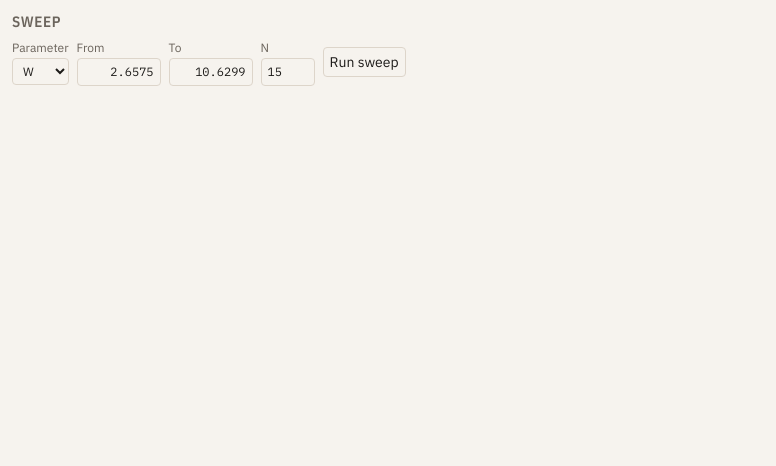
Test case: Sweep invalidation › shows a failed point's error in the display unit (mil), not the worker mm text
Click the button "Run sweep".
click(364, 62)  # box [322,47,406,77]
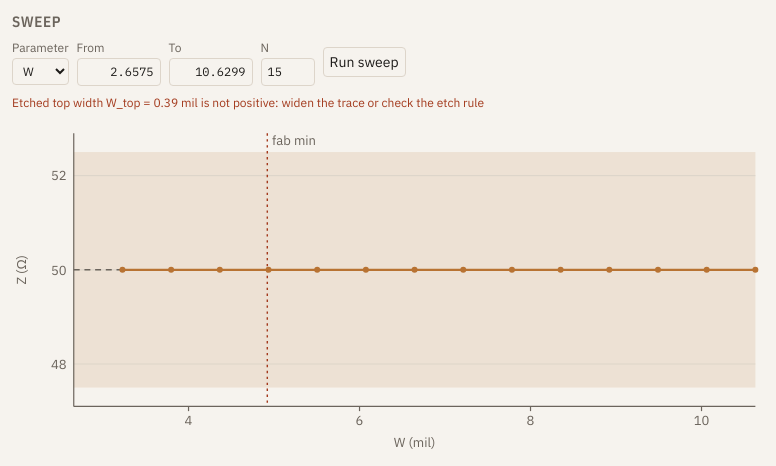
expect the message shows "W_top = 0.39 mil is not positive": met, box [12,94,484,110]
